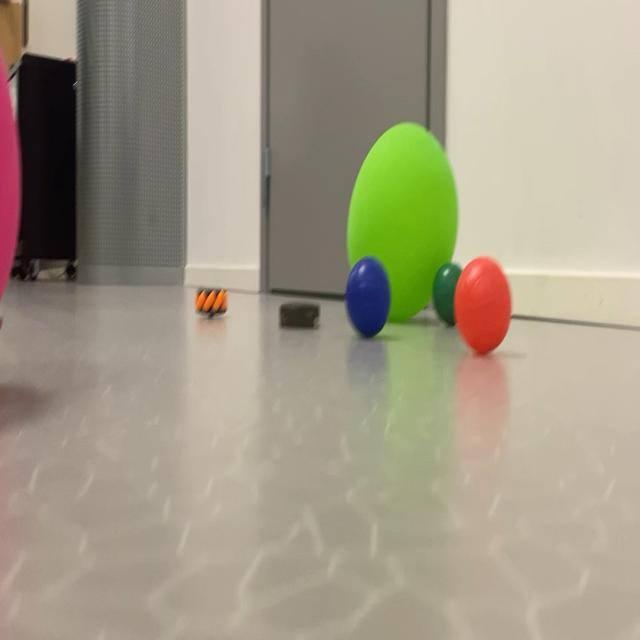7: (460, 225, 523, 404)
green ball: (323, 237, 398, 352)
red ball: (413, 243, 468, 362)
